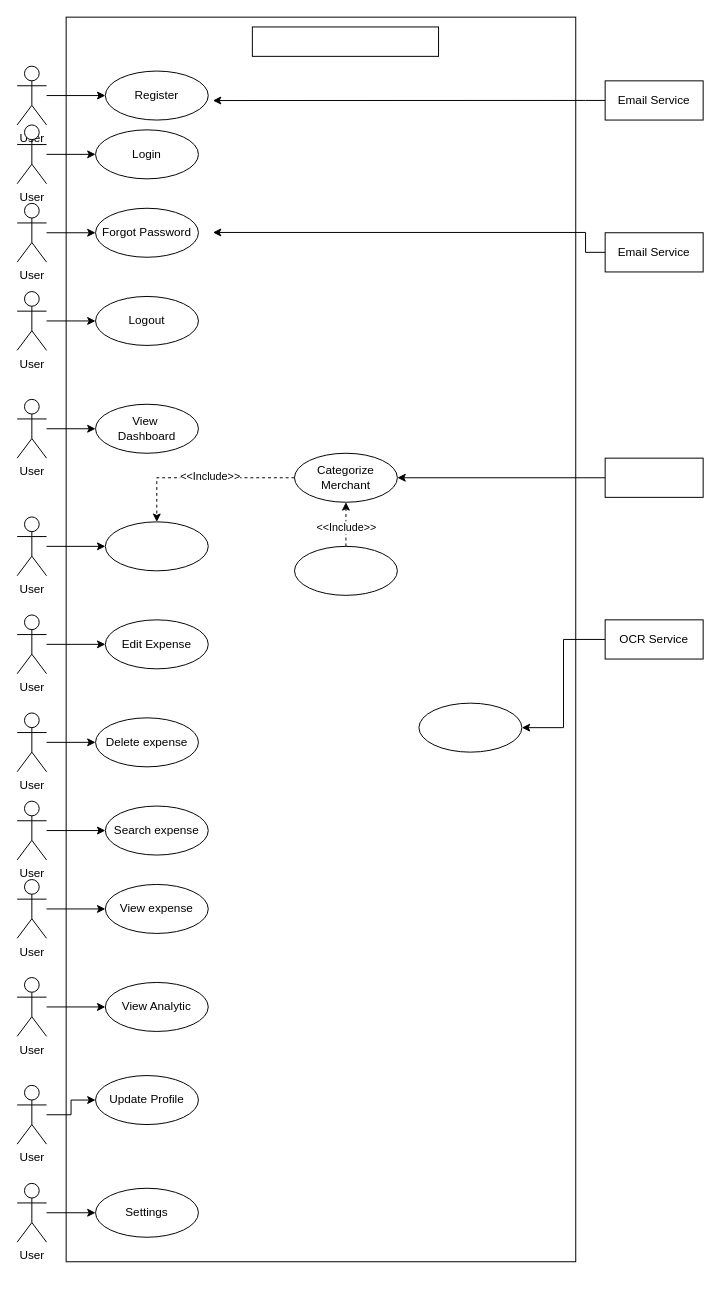
Some shapes in this 720 by 1295 pixel diagram are drawn without their labels. Each missing label, with the centre of its shape:
"Add Expense" goes at point 156,546.
"AI Catergorization Service" goes at point 653,477.
"expenseIQ Use" goes at point 345,41.
"Extract Receipt Data" goes at point 470,727.
"Save Expense" goes at point 345,570.
